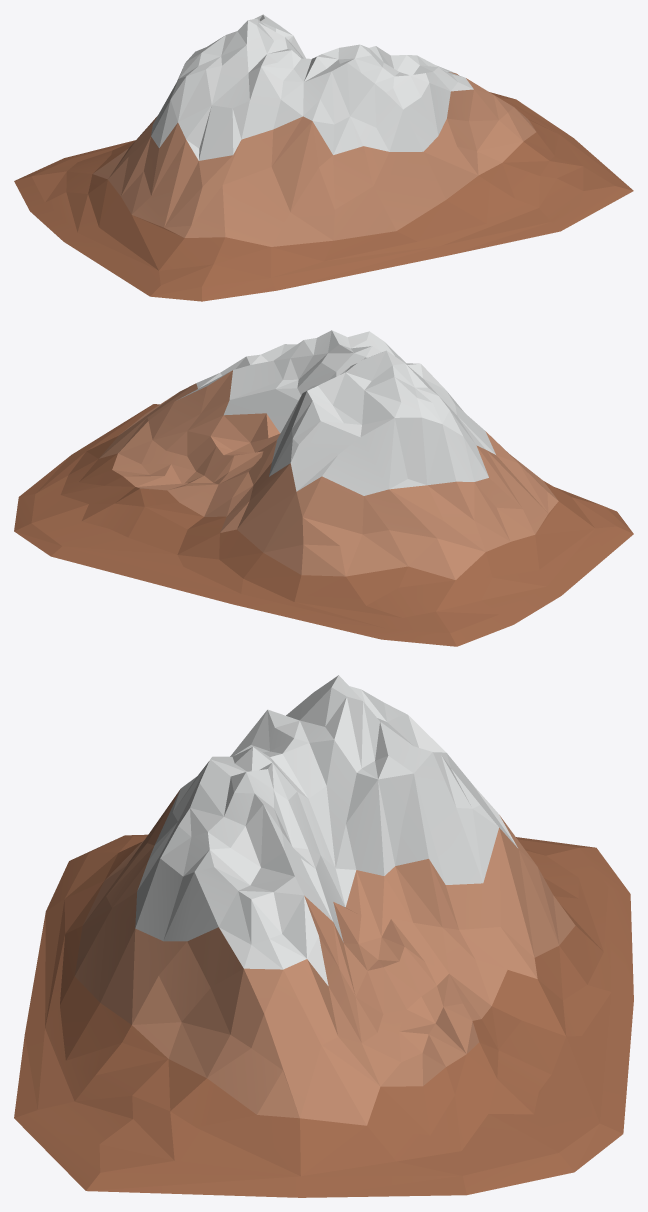
Rendered from mountain_1.fbx.
3 renders of one model, top to bottom at view 1: azimuth 30°, elevation 25°; view 2: azimuth 150°, elevation 25°; view 3: azimuth 270°, elevation 25°, orthographic. The views are drawn at different scales.
Visible parts, largest first — view 1: mountain_1; view 2: mountain_1; view 3: mountain_1.
Part boxes in pixels (bbox=[...]): mountain_1: bbox=[14, 14, 633, 301]; mountain_1: bbox=[14, 330, 633, 646]; mountain_1: bbox=[14, 675, 633, 1197].
Bounding box in the file's own units: 6245 × 2260 × 4434.
